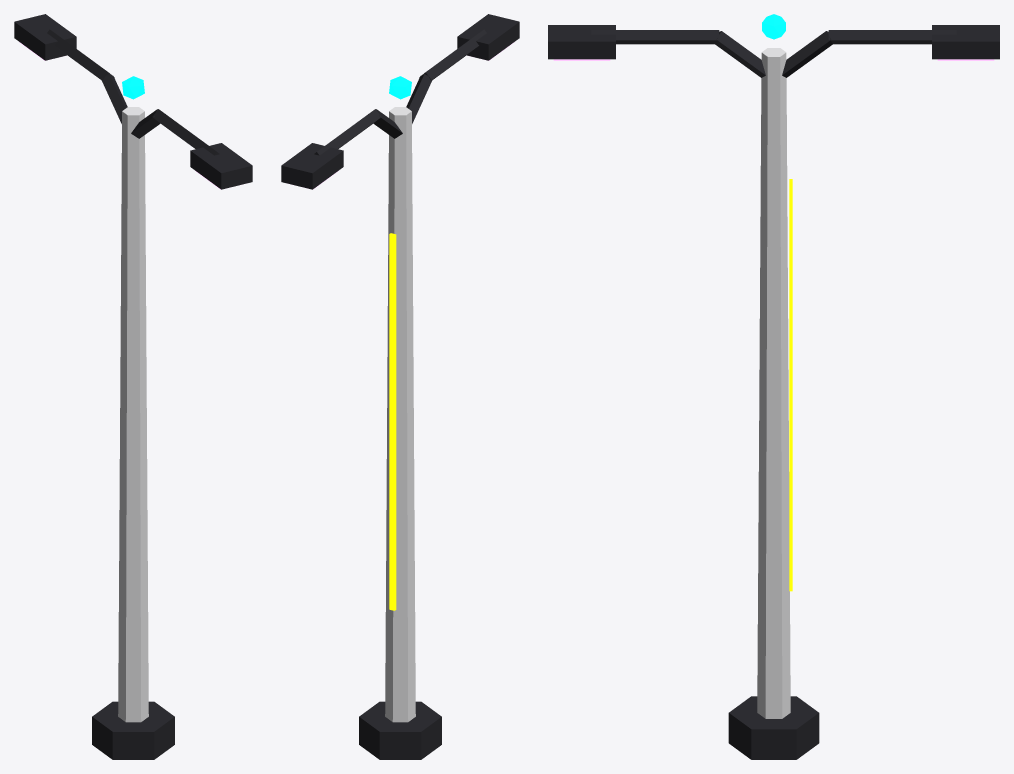
Rendered from Prop_StreetlightB.fbx.
3 renders of one model, left to right at view 1: azimuth 30°, elevation 25°; view 2: azimuth 150°, elevation 25°; view 3: azimuth 270°, elevation 25°, orthographic. The views are drawn at different scales.
Visible parts, largest first — view 1: SLB_Pole, SLB_Base, SLB_Head-1, SLB_Head1, SLB_Arm1, SLB_Arm-1, SLB_Cap; view 2: SLB_Pole, SLB_Base, SLB_NeonTube, SLB_Head1, SLB_Head-1, SLB_Arm-1, SLB_Arm1, SLB_Cap; view 3: SLB_Pole, SLB_Base, SLB_Arm-1, SLB_Arm1, SLB_Head-1, SLB_Head1, SLB_NeonTube.
Boxes of the visible parts, x1,y1,x2,y2 form: SLB_Pole: [118, 107, 148, 722]; SLB_Base: [92, 701, 174, 759]; SLB_Head-1: [190, 143, 252, 189]; SLB_Head1: [14, 14, 76, 60]; SLB_Arm1: [47, 29, 127, 123]; SLB_Arm-1: [131, 109, 219, 155]; SLB_Cap: [122, 76, 144, 99]; SLB_Pole: [385, 107, 415, 722]; SLB_Base: [359, 701, 441, 759]; SLB_NeonTube: [389, 233, 396, 610]; SLB_Head1: [281, 143, 343, 189]; SLB_Head-1: [457, 14, 519, 60]; SLB_Arm-1: [406, 29, 486, 123]; SLB_Arm1: [314, 109, 402, 155]; SLB_Cap: [389, 76, 411, 99]; SLB_Pole: [757, 48, 790, 718]; SLB_Base: [728, 696, 819, 759]; SLB_Arm-1: [591, 30, 765, 77]; SLB_Arm1: [782, 30, 956, 77]; SLB_Head-1: [548, 25, 615, 59]; SLB_Head1: [932, 25, 999, 59]; SLB_NeonTube: [789, 179, 792, 591].
Bounding box in the file's own units: 0.1386 × 1.42 × 0.8.
